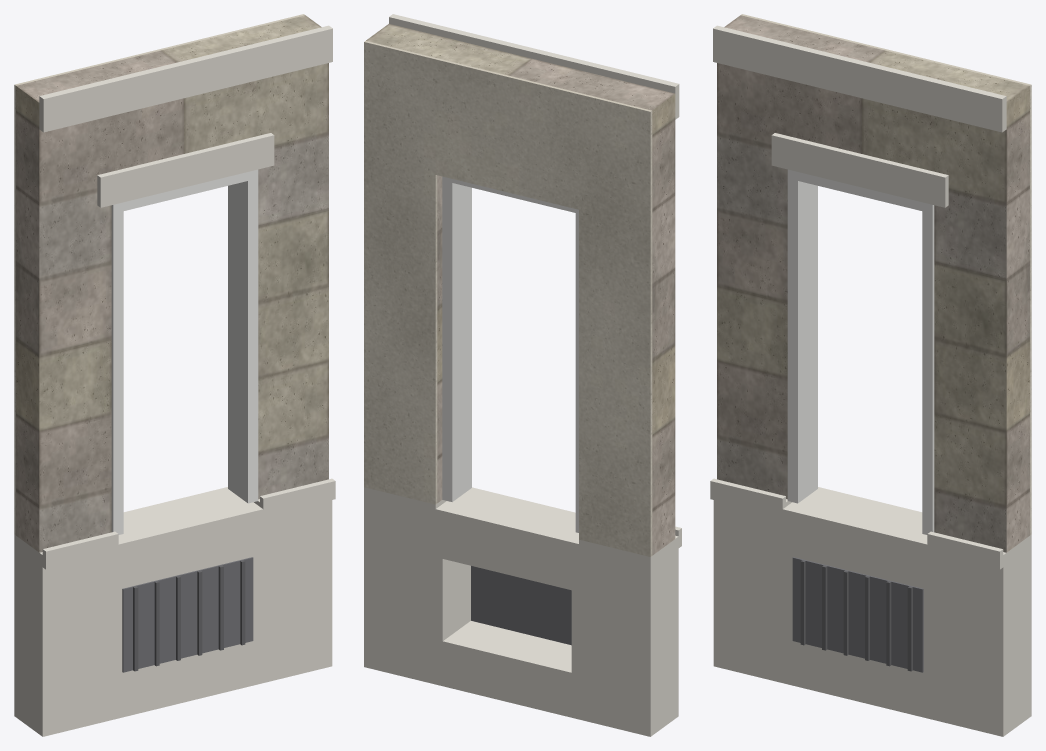
File: wall_b0_backdoor.glb
3 renders of one model, left to right at view 1: azimuth 30°, elevation 25°; view 2: azimuth 150°, elevation 25°; view 3: azimuth 330°, elevation 25°, orthographic.
Visible parts, largest first — view 1: wall_b0_backdoor_grey, wall_b0_backdoor_lime, wall_b0_backdoor_frame, wall_b0_backdoor_dark, wall_b0_backdoor_iron, wall_b0_backdoor_plaster; view 2: wall_b0_backdoor_plaster, wall_b0_backdoor_lime, wall_b0_backdoor_grey, wall_b0_backdoor_frame, wall_b0_backdoor_dark; view 3: wall_b0_backdoor_grey, wall_b0_backdoor_lime, wall_b0_backdoor_frame, wall_b0_backdoor_dark, wall_b0_backdoor_iron, wall_b0_backdoor_plaster.
Part boxes in pixels (left/top/right/bottom): wall_b0_backdoor_grey: left=16, top=15, right=328, bottom=552; wall_b0_backdoor_lime: left=14, top=25, right=335, bottom=736; wall_b0_backdoor_frame: left=111, top=169, right=258, bottom=534; wall_b0_backdoor_dark: left=122, top=557, right=253, bottom=672; wall_b0_backdoor_iron: left=133, top=560, right=245, bottom=671; wall_b0_backdoor_plaster: left=14, top=14, right=304, bottom=535; wall_b0_backdoor_plaster: left=364, top=41, right=652, bottom=556; wall_b0_backdoor_lime: left=364, top=14, right=681, bottom=736; wall_b0_backdoor_grey: left=366, top=24, right=675, bottom=555; wall_b0_backdoor_frame: left=442, top=176, right=578, bottom=532; wall_b0_backdoor_dark: left=471, top=566, right=571, bottom=645; wall_b0_backdoor_grey: left=717, top=15, right=1029, bottom=552; wall_b0_backdoor_lime: left=710, top=25, right=1031, bottom=736; wall_b0_backdoor_frame: left=787, top=169, right=934, bottom=534; wall_b0_backdoor_dark: left=792, top=557, right=923, bottom=672; wall_b0_backdoor_iron: left=800, top=560, right=912, bottom=671; wall_b0_backdoor_plaster: left=741, top=14, right=1031, bottom=535.
Bounding box in the file's own units: 2 × 4.22 × 0.38.
Materials: 6 (2 with a texture image).
